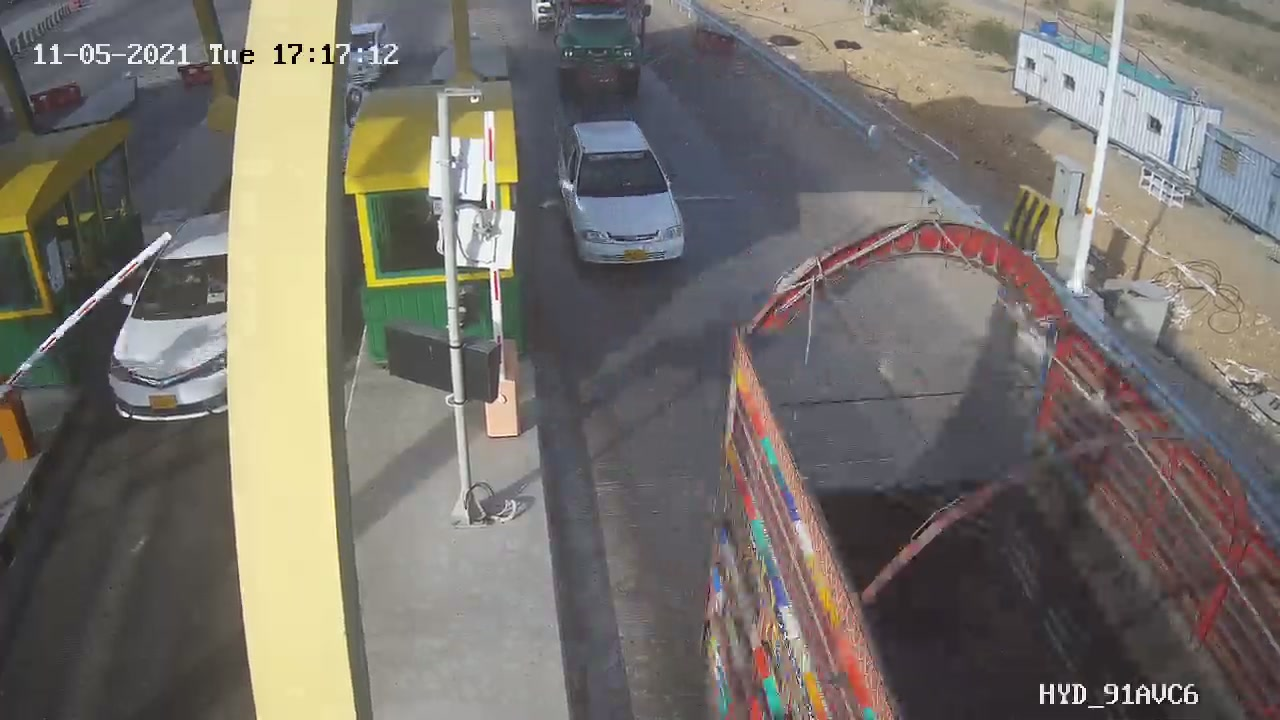F1: (543, 109, 699, 277)
